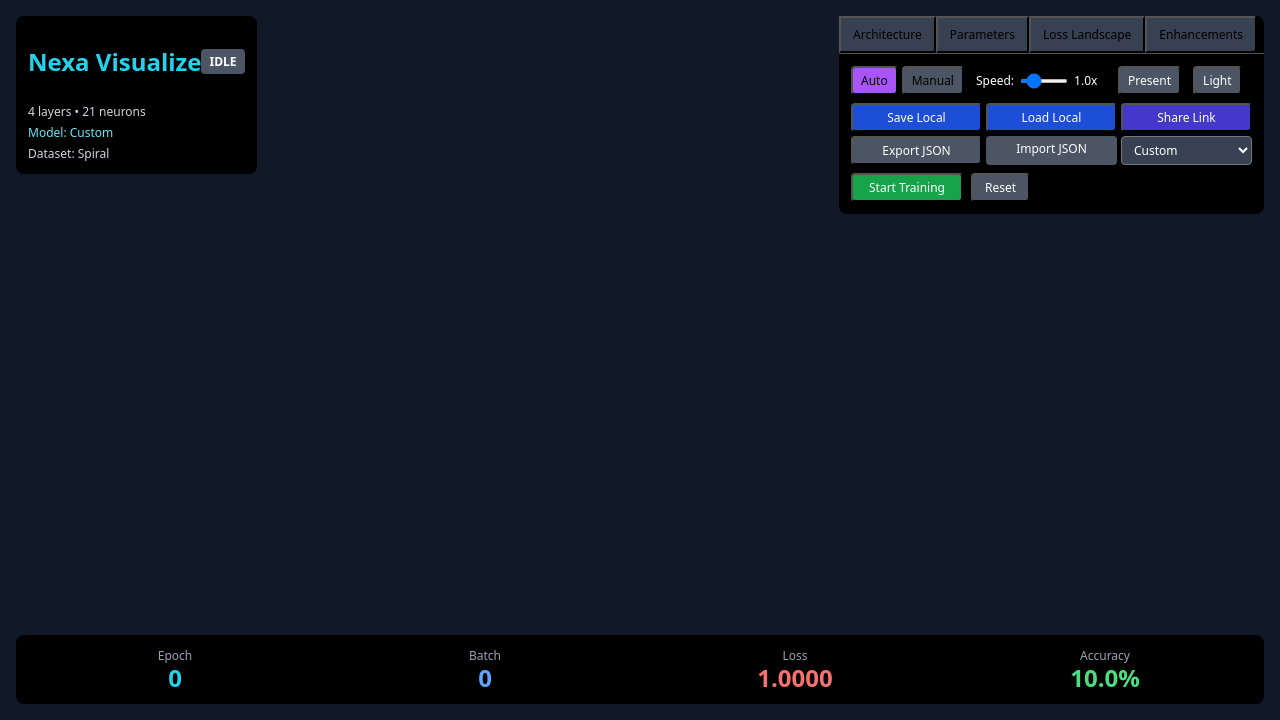
NeuralNetwork3D integration tests › panel expansion and collapse toggles detail panel
The width and height of the screenshot is (1280, 720).
Click the button "Parameters".
click(982, 34)  # box [936,16,1029,53]
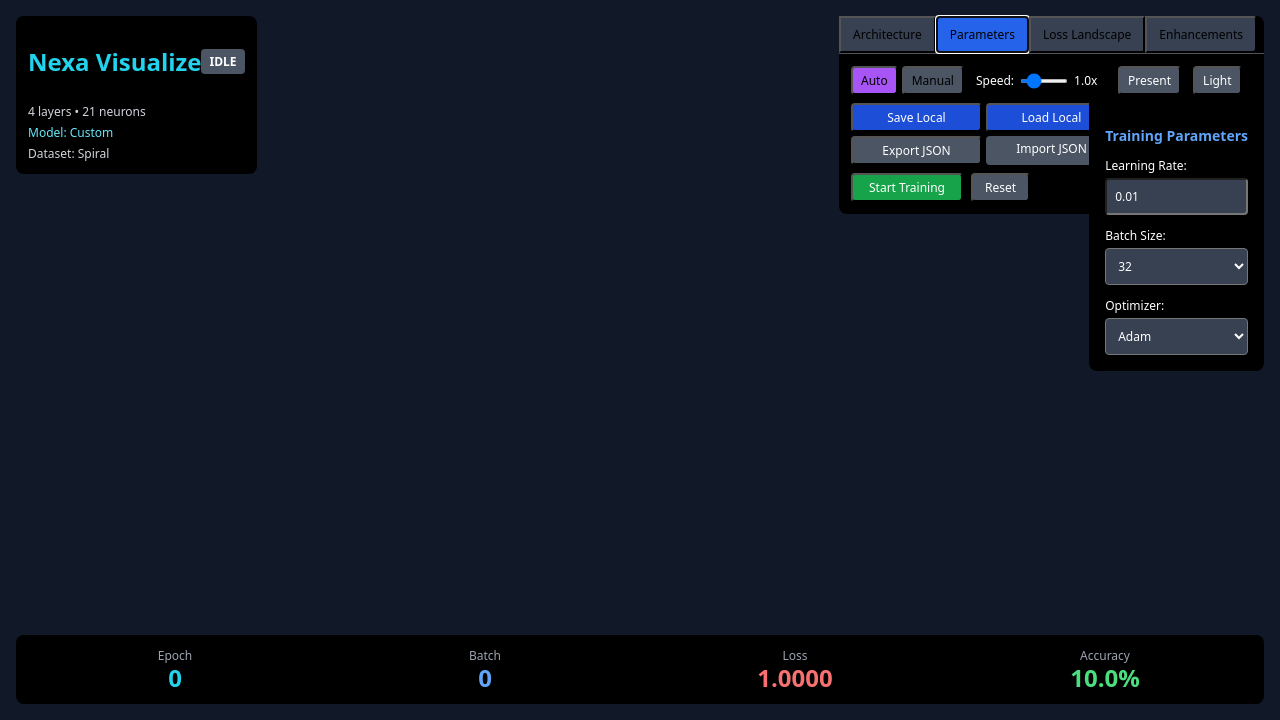
Expected: the element with test id "config-panel" is shown, [1089,96,1264,371]
Click the button "Parameters".
click(982, 34)  # box [936,16,1029,53]
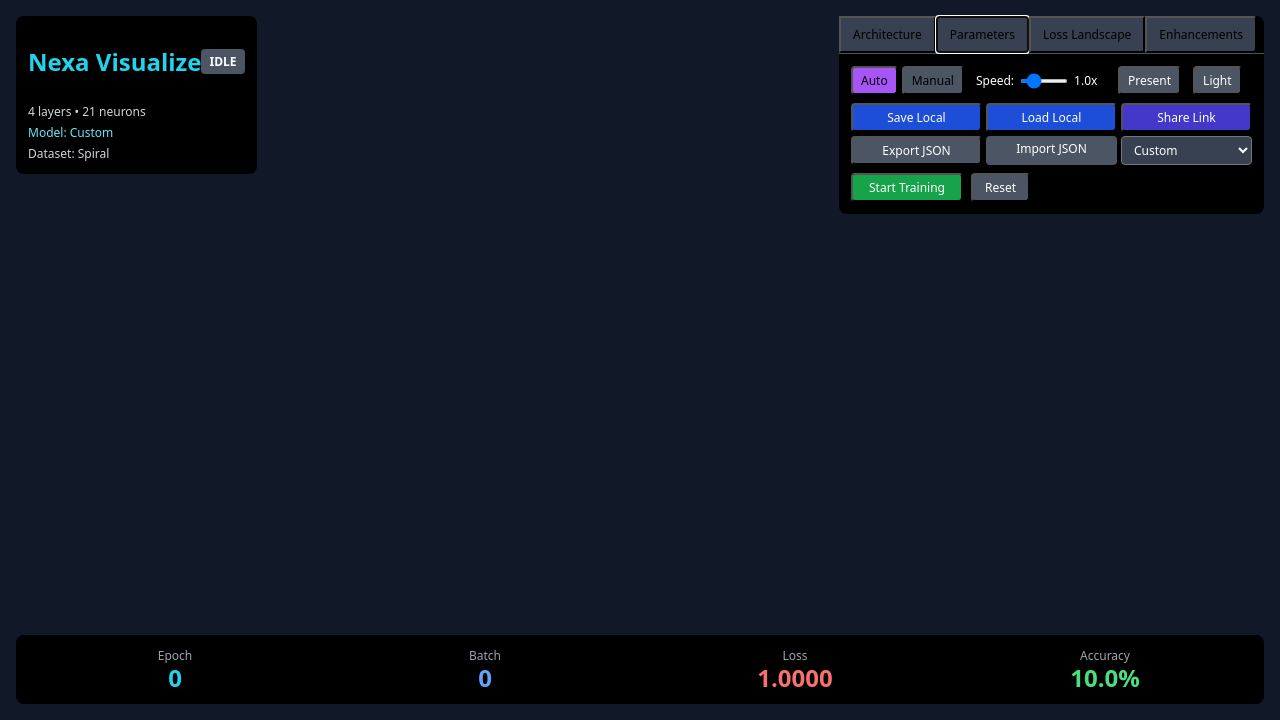
Expected: the element with test id "config-panel" is gone
